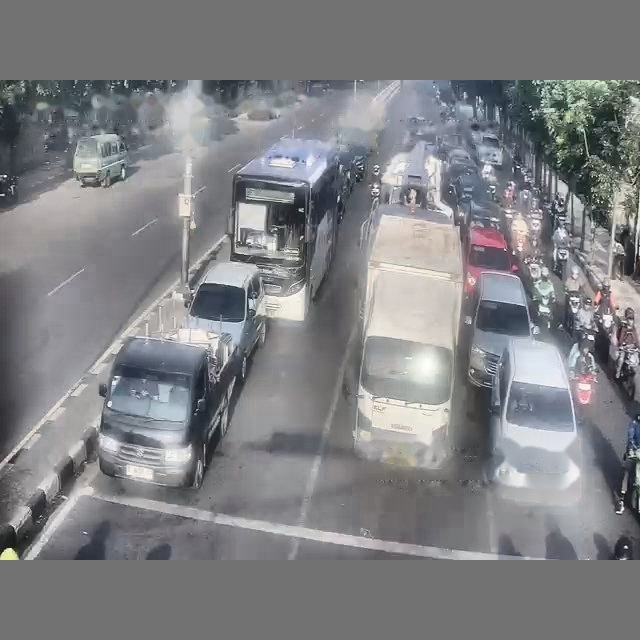Bis: (228, 138, 340, 320)
Mobil: (182, 262, 266, 380), (464, 227, 517, 295)
Motor: (574, 371, 596, 405), (566, 292, 580, 335), (537, 293, 552, 331), (553, 247, 569, 281), (0, 174, 17, 204)
Truk: (350, 213, 463, 466)
